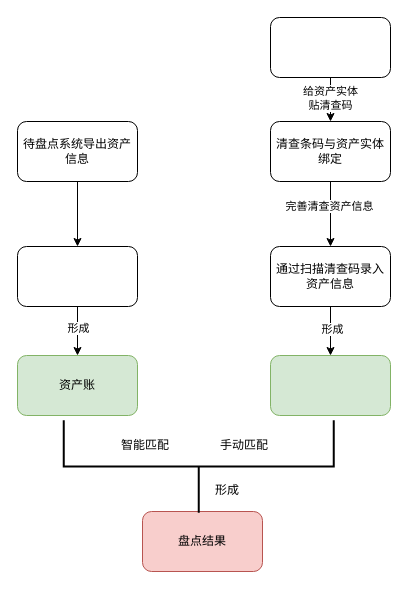
This 408x589 diagram has some shape labels left out. The centre of each missing label's shape, as x and y in pixels:
清查账: (330,385)
精臣系统导入: (77,276)
精臣系统打印清查条码: (330,47)
